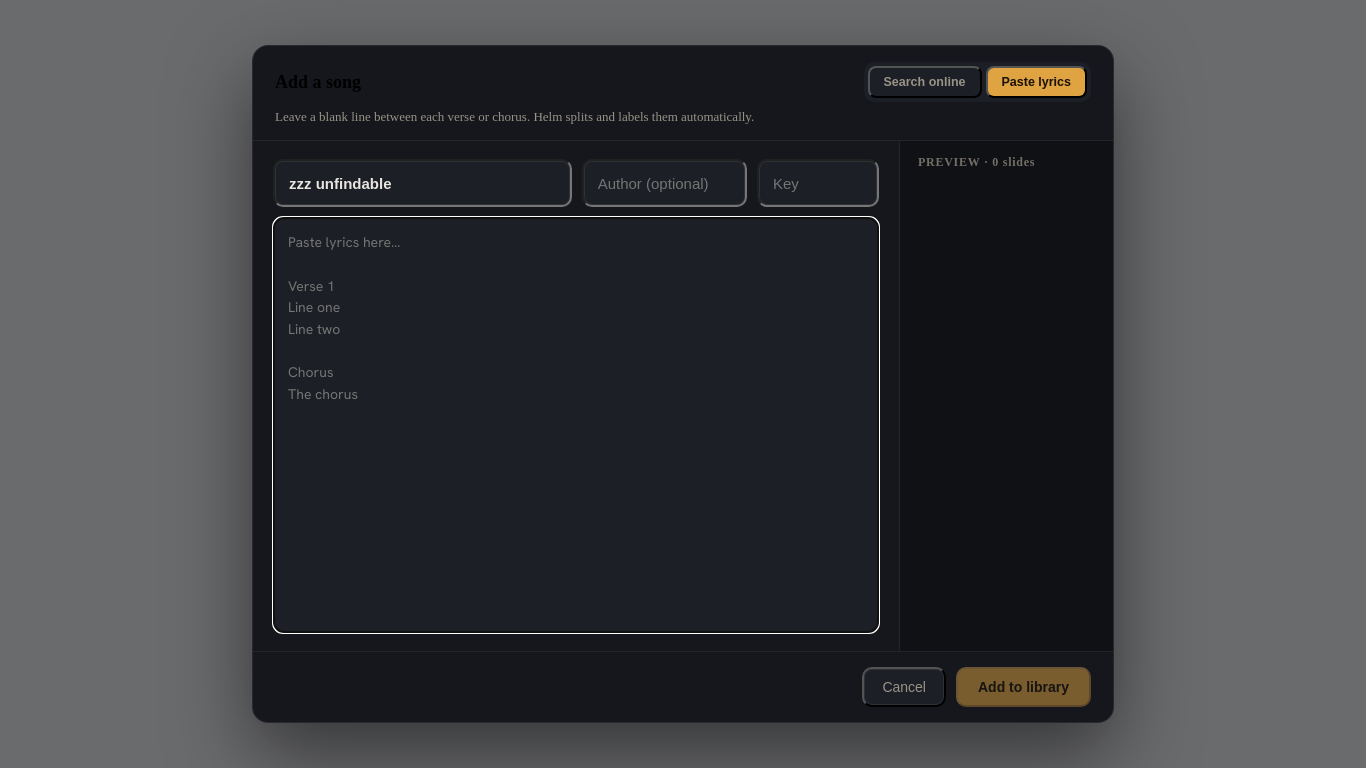
Test: QuickAdd Search online tab › shows the empty-state copy when the search has no matches
Click the button "Search online" at point(924, 82), box [868,66,982,98]
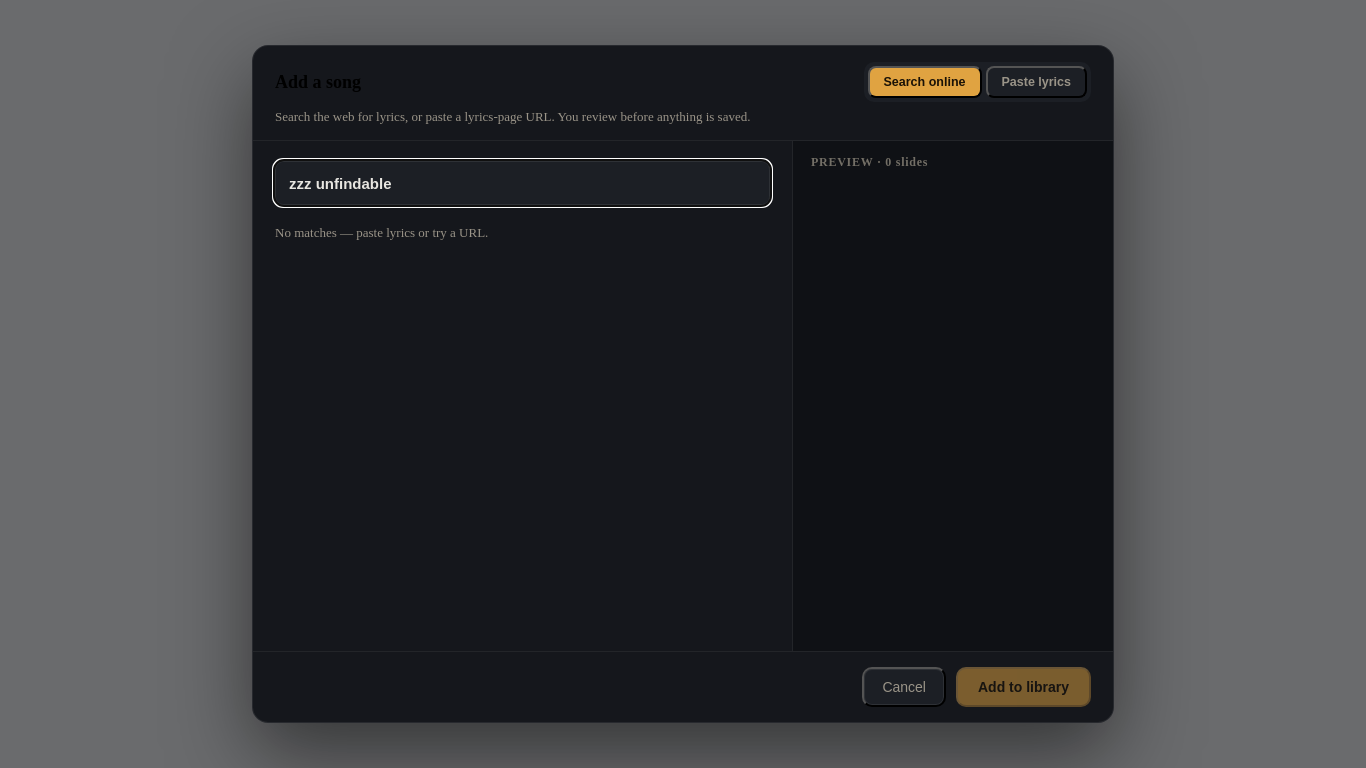
Result: the text "No matches — paste lyrics or try a URL." is shown at [275,225,488,240]
